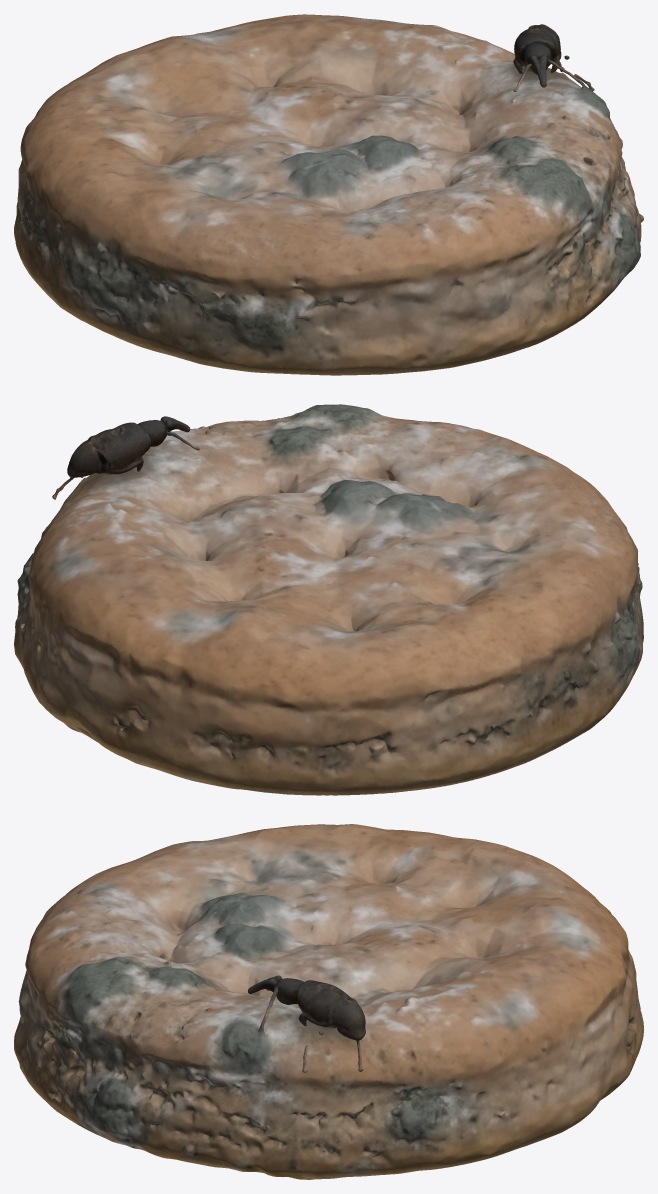
File: hardtack_biscuit.glb
The picture shows the model from 3 angles, top to bottom: view 1: azimuth 30°, elevation 25°; view 2: azimuth 150°, elevation 25°; view 3: azimuth 270°, elevation 25°; orthographic projection. The views are drawn at different scales.
Visible parts, largest first — view 1: world; view 2: world; view 3: world.
Part boxes in pixels (x1=…): world: x1=14, y1=14, x2=643, y2=375; world: x1=14, y1=404, x2=643, y2=795; world: x1=14, y1=824, x2=643, y2=1179.
Bounding box in the file's own units: 0.9849 × 0.3114 × 1.
Materials: 1 (1 with a texture image).
